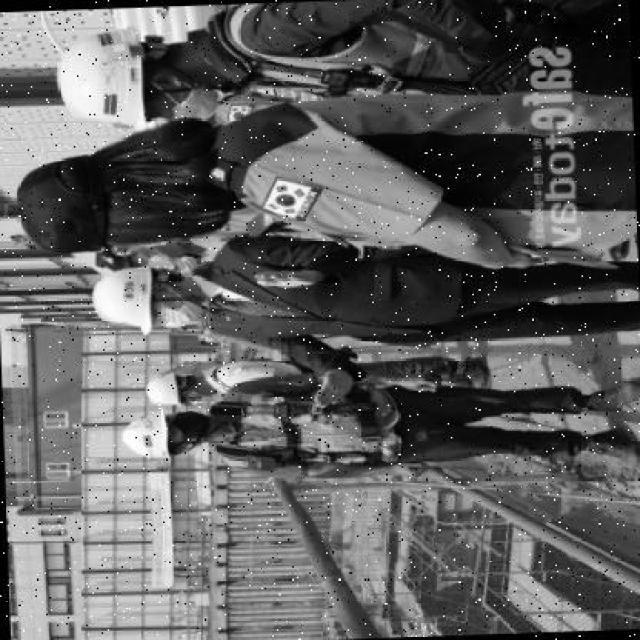Arnes_seguridad: (218, 377, 446, 480)
